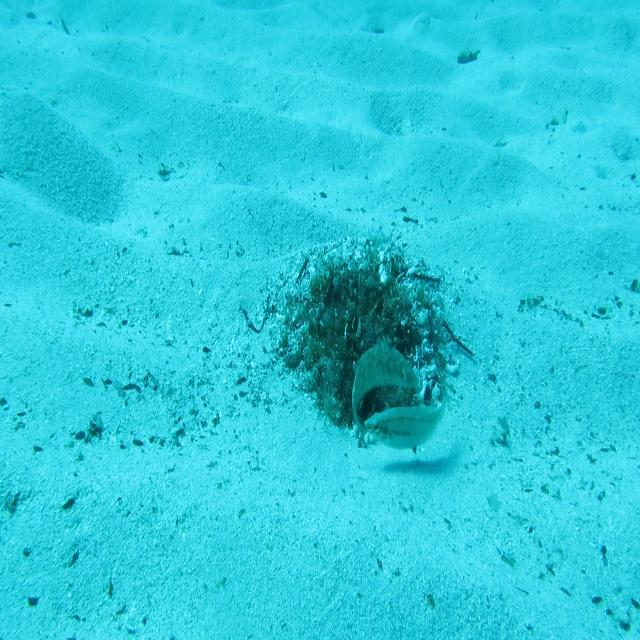DAN_CIRC: (350, 330, 421, 443)
core_nest: (335, 282, 381, 336)
female: (363, 386, 451, 455)
nest: (253, 211, 468, 465)
vegetation: (454, 46, 482, 66)
